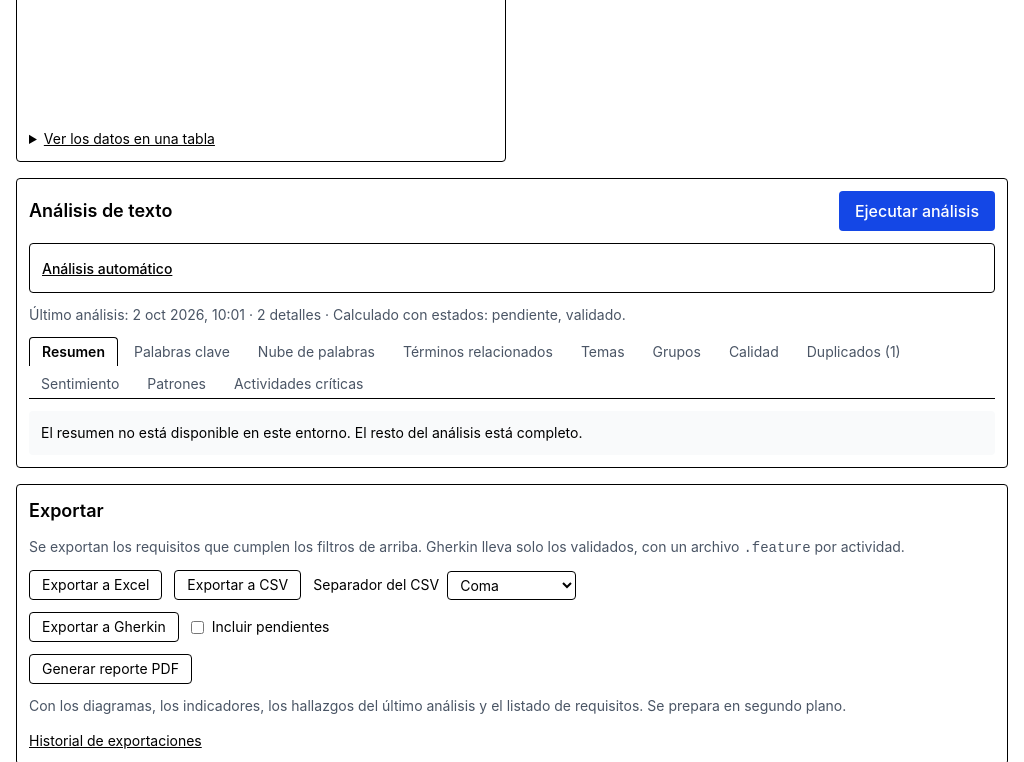
Test case: actividades críticas › sin actividades destacadas lo dice
(page scrolled)
Click the tab "Actividades críticas": (299, 384) [222,370,376,398]
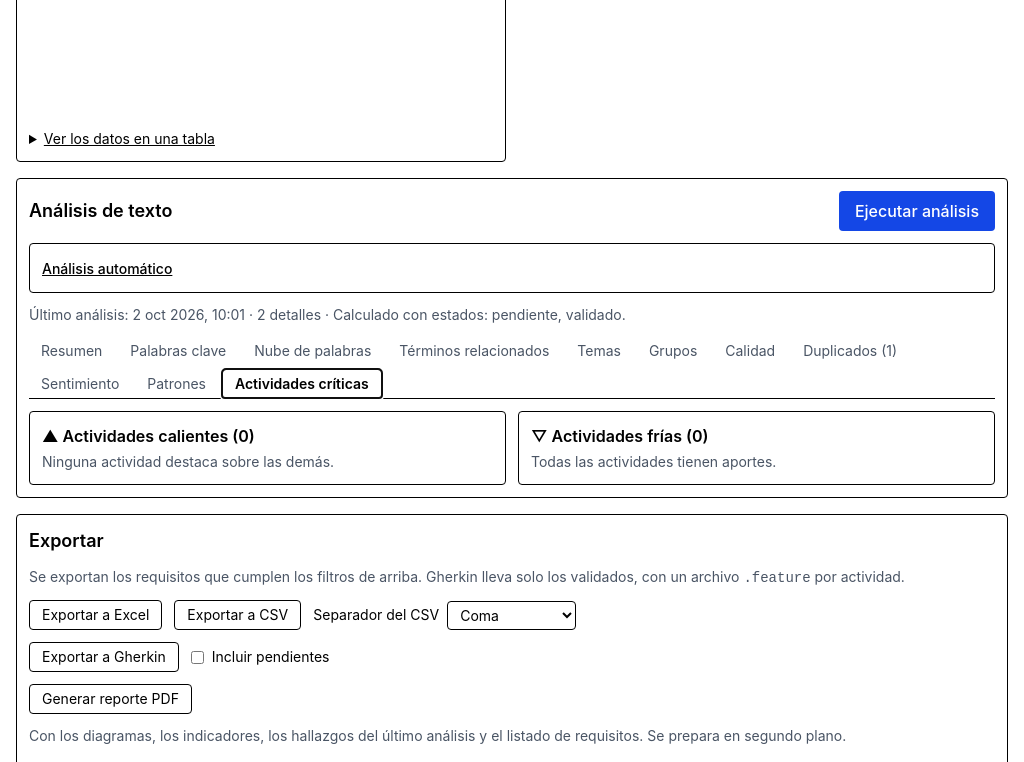
Expected: the text "Ninguna actividad destaca sobre las demás." is shown, [42,453,334,470]
Expected: the text "Todas las actividades tienen aportes." is shown, [531,453,776,470]
